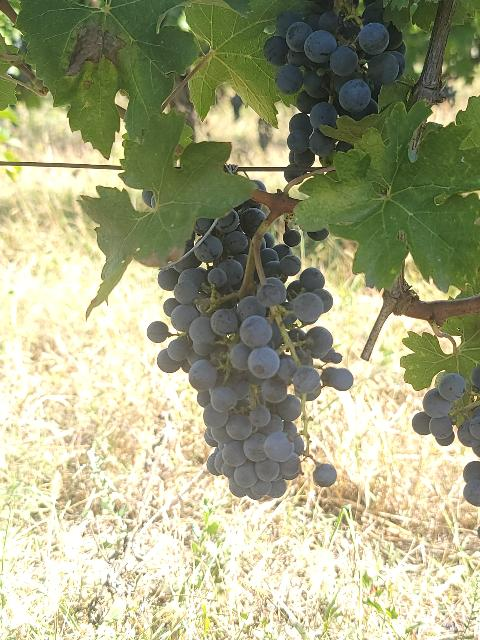grapes: (158, 204, 354, 500), (264, 0, 405, 168)
